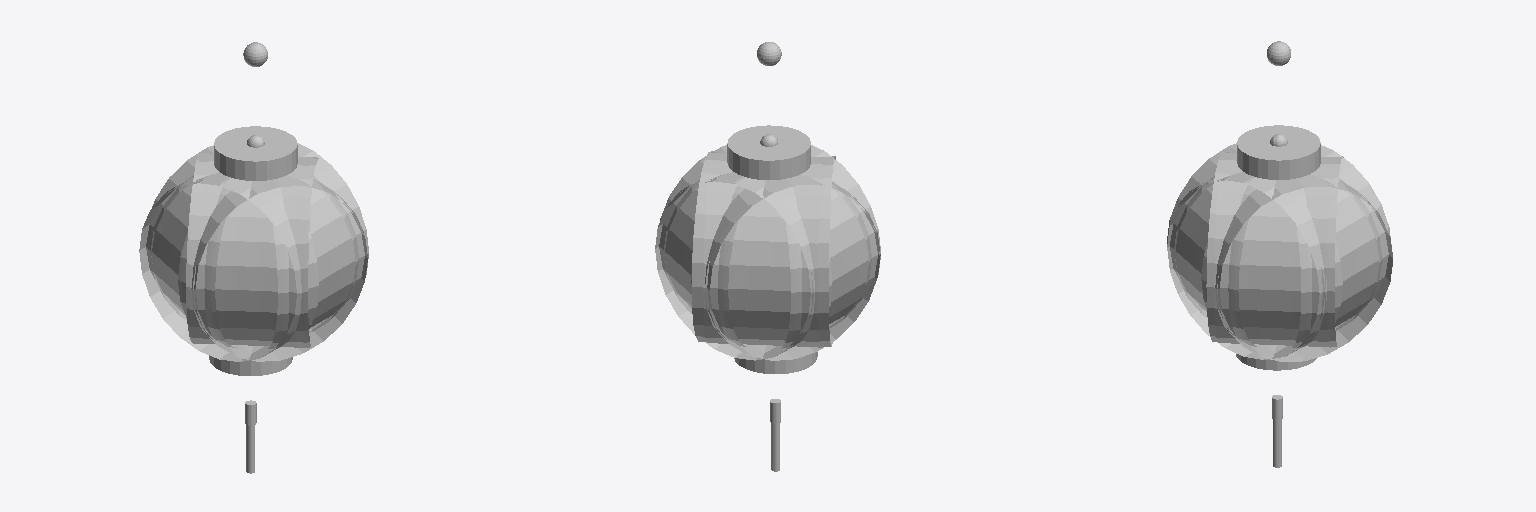
File: lantern.004.obj
3 views of the same model, side by side, from view 1: azimuth 30°, elevation 25°; view 2: azimuth 150°, elevation 25°; view 3: azimuth 270°, elevation 25° (orthographic).
Visible parts, largest first — view 1: lantern.004_3d-model.004; view 2: lantern.004_3d-model.004; view 3: lantern.004_3d-model.004.
Boxes of the visible parts, x1=… form: lantern.004_3d-model.004: x1=139, y1=42, x2=368, y2=473; lantern.004_3d-model.004: x1=655, y1=42, x2=880, y2=471; lantern.004_3d-model.004: x1=1167, y1=41, x2=1392, y2=467.
Bounding box in the file's own units: 0.2315 × 0.5187 × 0.2502.